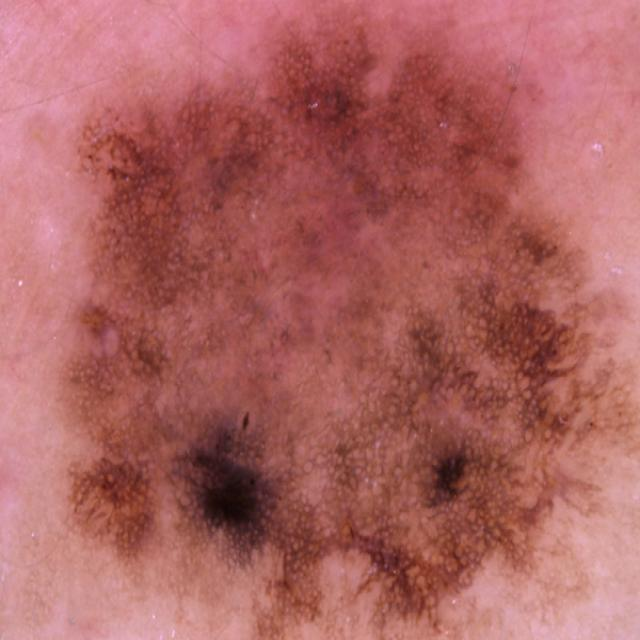NV: (51, 0, 634, 639)
